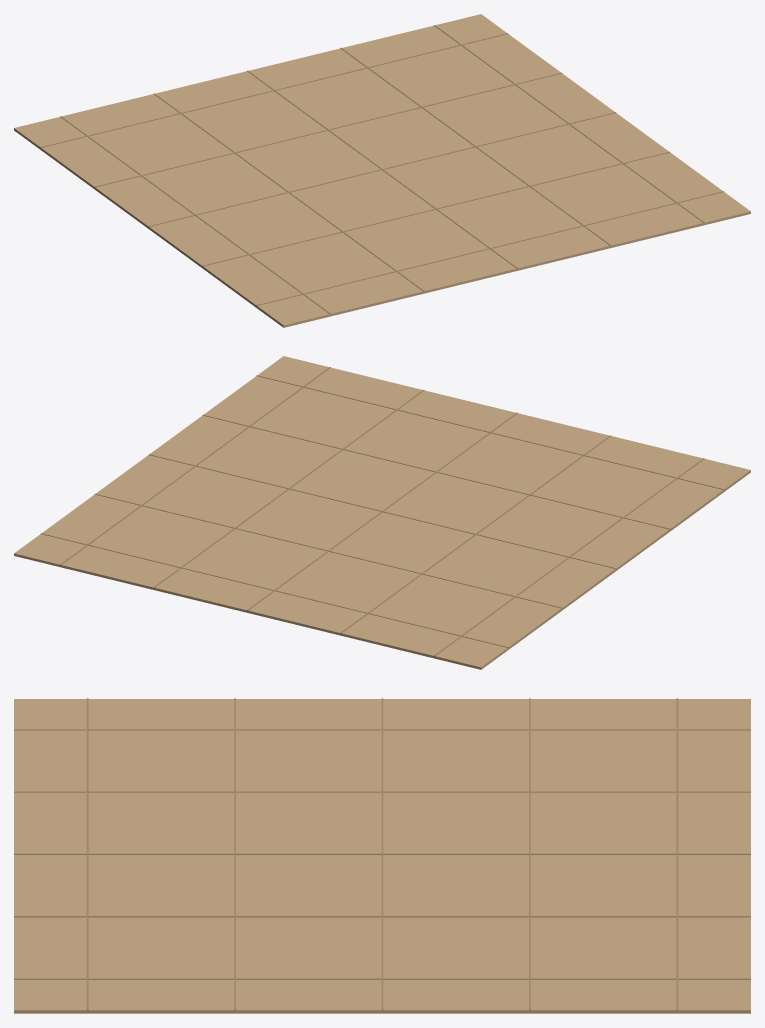
Rendered from paved_court.glb.
3 views of the same model, one above another, from view 1: azimuth 30°, elevation 25°; view 2: azimuth 150°, elevation 25°; view 3: azimuth 270°, elevation 25° (orthographic). The views are drawn at different scales.
Visible parts, largest first — view 1: _MeshInstance3D_346, _MeshInstance3D_352, _MeshInstance3D_354, _MeshInstance3D_356, _MeshInstance3D_353, _MeshInstance3D_355, _MeshInstance3D_349, _MeshInstance3D_350, _MeshInstance3D_347, _MeshInstance3D_348, _MeshInstance3D_351; view 2: _MeshInstance3D_346, _MeshInstance3D_354, _MeshInstance3D_356, _MeshInstance3D_352, _MeshInstance3D_355, _MeshInstance3D_353, _MeshInstance3D_349, _MeshInstance3D_350, _MeshInstance3D_347, _MeshInstance3D_348, _MeshInstance3D_351; view 3: _MeshInstance3D_346, _MeshInstance3D_348, _MeshInstance3D_351, _MeshInstance3D_347, _MeshInstance3D_349, _MeshInstance3D_350, _MeshInstance3D_352, _MeshInstance3D_356, _MeshInstance3D_354, _MeshInstance3D_353, _MeshInstance3D_355.
Part boxes in pixels (bbox=[...]): _MeshInstance3D_346: bbox=[14, 14, 750, 327]; _MeshInstance3D_352: bbox=[40, 33, 508, 147]; _MeshInstance3D_354: bbox=[148, 112, 616, 226]; _MeshInstance3D_356: bbox=[256, 191, 724, 305]; _MeshInstance3D_353: bbox=[95, 72, 562, 187]; _MeshInstance3D_355: bbox=[202, 151, 670, 266]; _MeshInstance3D_349: bbox=[247, 70, 517, 268]; _MeshInstance3D_350: bbox=[340, 47, 611, 245]; _MeshInstance3D_347: bbox=[60, 116, 330, 313]; _MeshInstance3D_348: bbox=[154, 93, 424, 291]; _MeshInstance3D_351: bbox=[434, 25, 704, 222]; _MeshInstance3D_346: bbox=[14, 356, 750, 669]; _MeshInstance3D_354: bbox=[148, 454, 616, 568]; _MeshInstance3D_356: bbox=[256, 375, 724, 489]; _MeshInstance3D_352: bbox=[40, 533, 508, 647]; _MeshInstance3D_355: bbox=[202, 414, 669, 529]; _MeshInstance3D_353: bbox=[94, 493, 562, 608]; _MeshInstance3D_349: bbox=[247, 412, 517, 610]; _MeshInstance3D_350: bbox=[153, 389, 424, 587]; _MeshInstance3D_347: bbox=[434, 458, 704, 655]; _MeshInstance3D_348: bbox=[340, 435, 610, 633]; _MeshInstance3D_351: bbox=[60, 367, 330, 564]; _MeshInstance3D_346: bbox=[14, 699, 750, 1013]; _MeshInstance3D_348: bbox=[14, 791, 750, 792]; _MeshInstance3D_351: bbox=[14, 978, 750, 979]; _MeshInstance3D_347: bbox=[14, 729, 750, 730]; _MeshInstance3D_349: bbox=[14, 853, 750, 854]; _MeshInstance3D_350: bbox=[14, 916, 750, 917]; _MeshInstance3D_352: bbox=[676, 698, 678, 1010]; _MeshInstance3D_356: bbox=[86, 698, 88, 1010]; _MeshInstance3D_354: bbox=[381, 698, 383, 1010]; _MeshInstance3D_353: bbox=[529, 698, 530, 1010]; _MeshInstance3D_355: bbox=[234, 698, 235, 1010].
Bounding box in the file's own units: 10 × 0.059 × 10.
